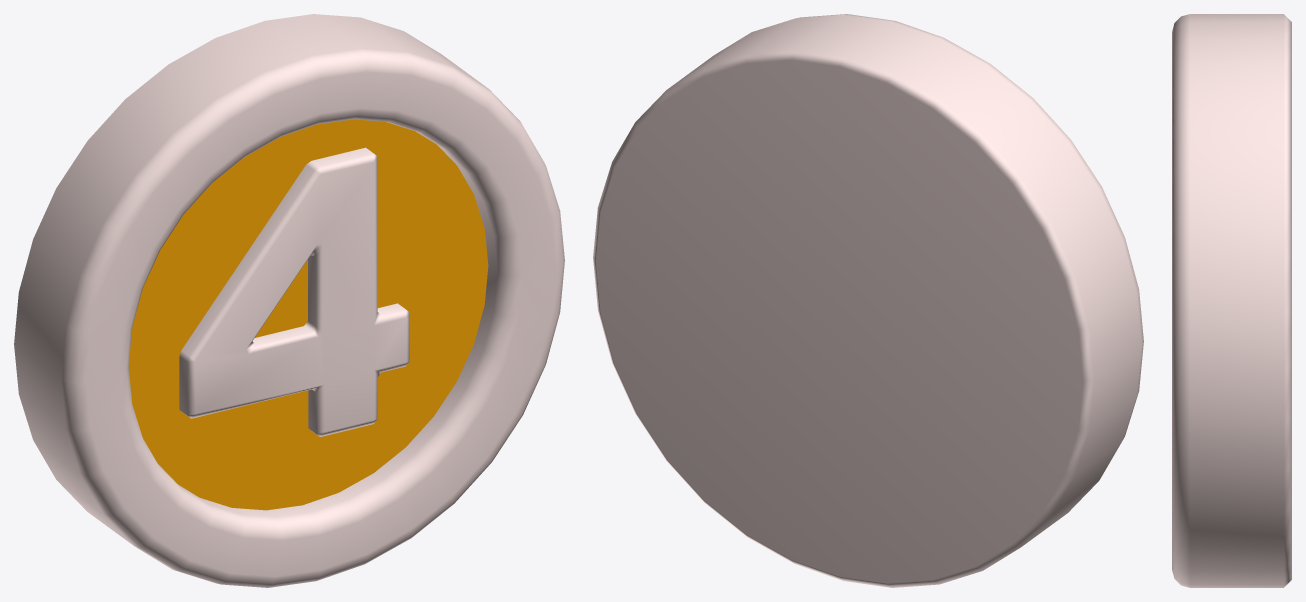
The model's file is City_20_Number_House_4.glb.
The picture shows the model from 3 angles, left to right: view 1: azimuth 30°, elevation 25°; view 2: azimuth 150°, elevation 25°; view 3: azimuth 270°, elevation 25°; orthographic projection.
Parts seen in each view (by area): view 1: City_20_Number_House_4; view 2: City_20_Number_House_4; view 3: City_20_Number_House_4.
Part boxes in pixels (bbox=[...]): City_20_Number_House_4: bbox=[14, 14, 564, 587]; City_20_Number_House_4: bbox=[593, 14, 1143, 587]; City_20_Number_House_4: bbox=[1172, 14, 1291, 587].
Bounding box in the file's own units: 0.5101 × 0.5101 × 0.1065.
Materials: 1 (1 with a texture image).
